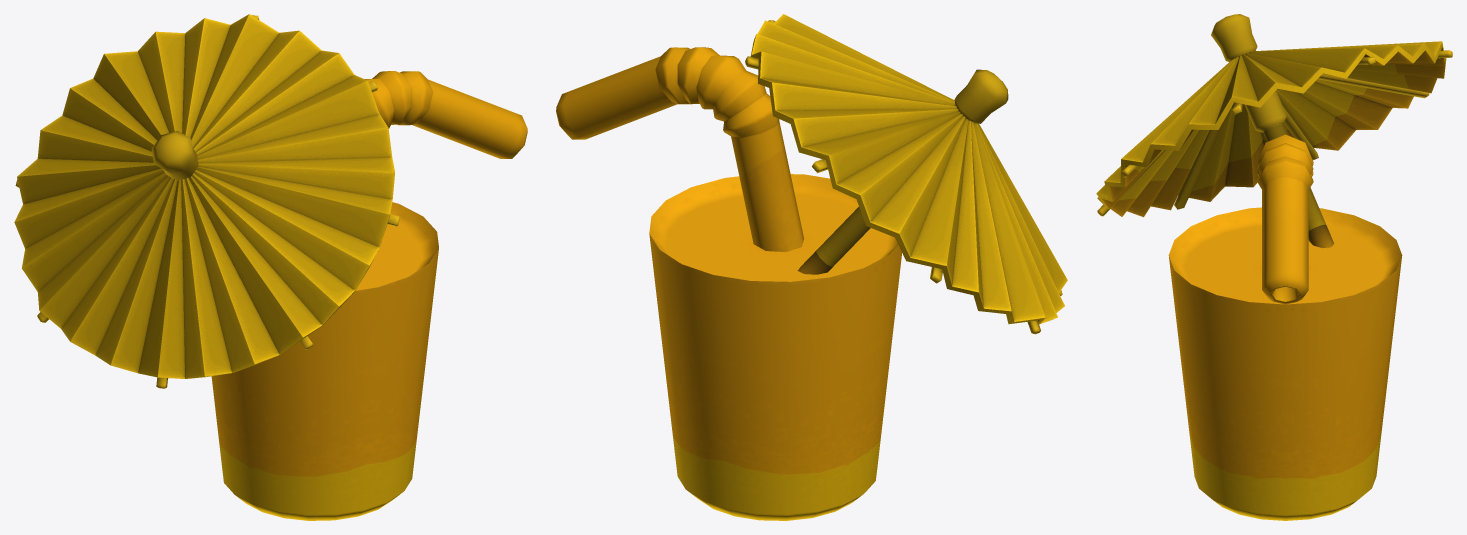
Rendered from Web_Smoothie_Mix_Tropical.obj.
The picture shows the model from 3 angles, left to right: view 1: azimuth 30°, elevation 25°; view 2: azimuth 150°, elevation 25°; view 3: azimuth 270°, elevation 25°; orthographic projection. The views are drawn at different scales.
Parts seen in each view (by area): view 1: m_recipe_megaSmoothie_01(Clone)_0; view 2: m_recipe_megaSmoothie_01(Clone)_0; view 3: m_recipe_megaSmoothie_01(Clone)_0.
Part boxes in pixels (x1,y1,x2,y2): m_recipe_megaSmoothie_01(Clone)_0: [14, 14, 527, 520]; m_recipe_megaSmoothie_01(Clone)_0: [556, 14, 1067, 520]; m_recipe_megaSmoothie_01(Clone)_0: [1096, 14, 1452, 520].
Size of the model in its own units: 1.11 by 1.01 by 0.7635.
Materials: 1 (1 with a texture image).
